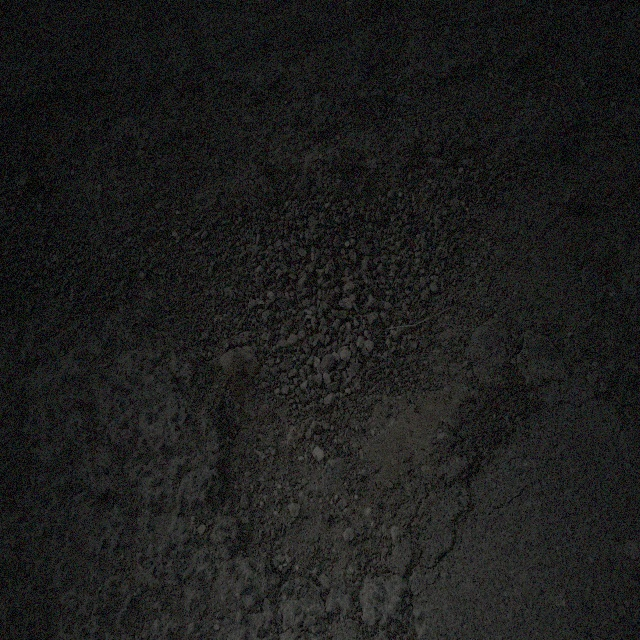pothole: (174, 338, 457, 612)
